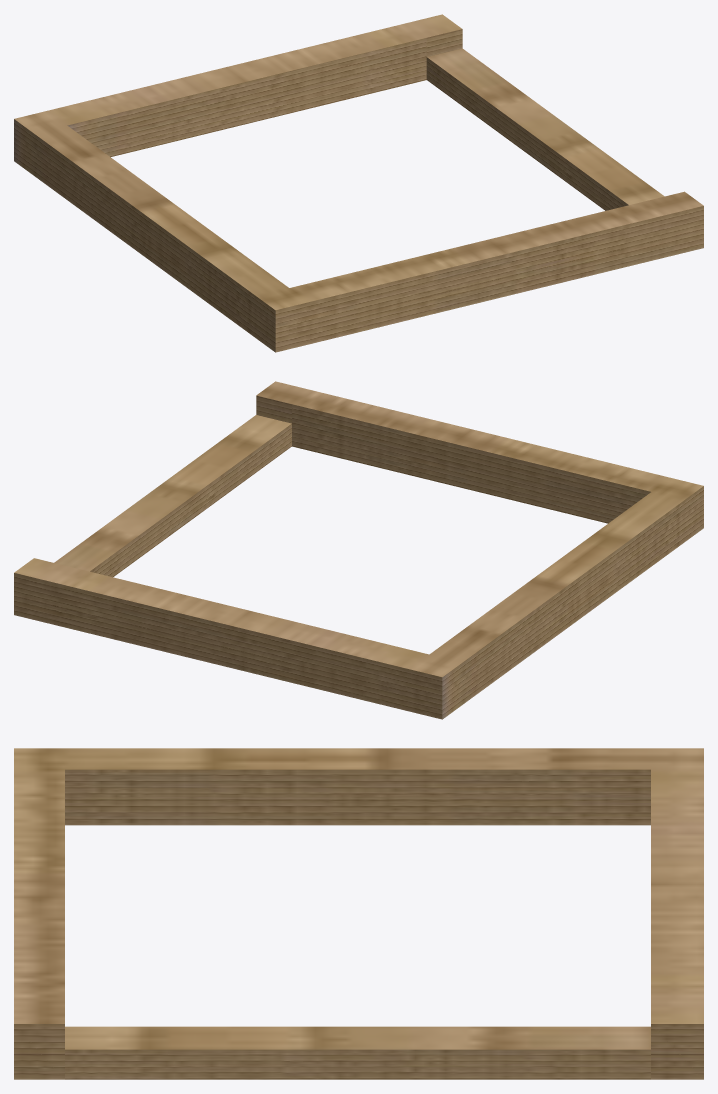
The model's file is JstyleMap.obj.
3 views of the same model, one above another, from view 1: azimuth 30°, elevation 25°; view 2: azimuth 150°, elevation 25°; view 3: azimuth 270°, elevation 25° (orthographic). The views are drawn at different scales.
Parts seen in each view (by area): view 1: Cube; view 2: Cube; view 3: Cube.
Part boxes in pixels (bbox=[...]): Cube: bbox=[14, 14, 703, 352]; Cube: bbox=[14, 381, 703, 719]; Cube: bbox=[14, 748, 703, 1079].
Size of the model in its own units: 16.54 by 1.56 by 17.49.
Materials: 1 (1 with a texture image).
